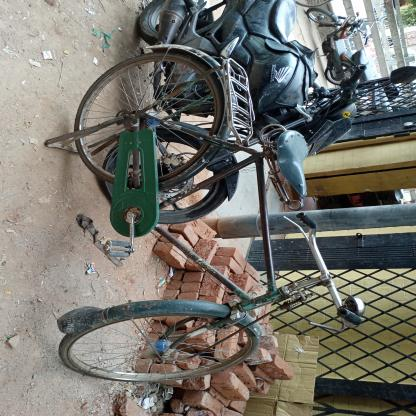bicycle: (43, 22, 390, 405)
